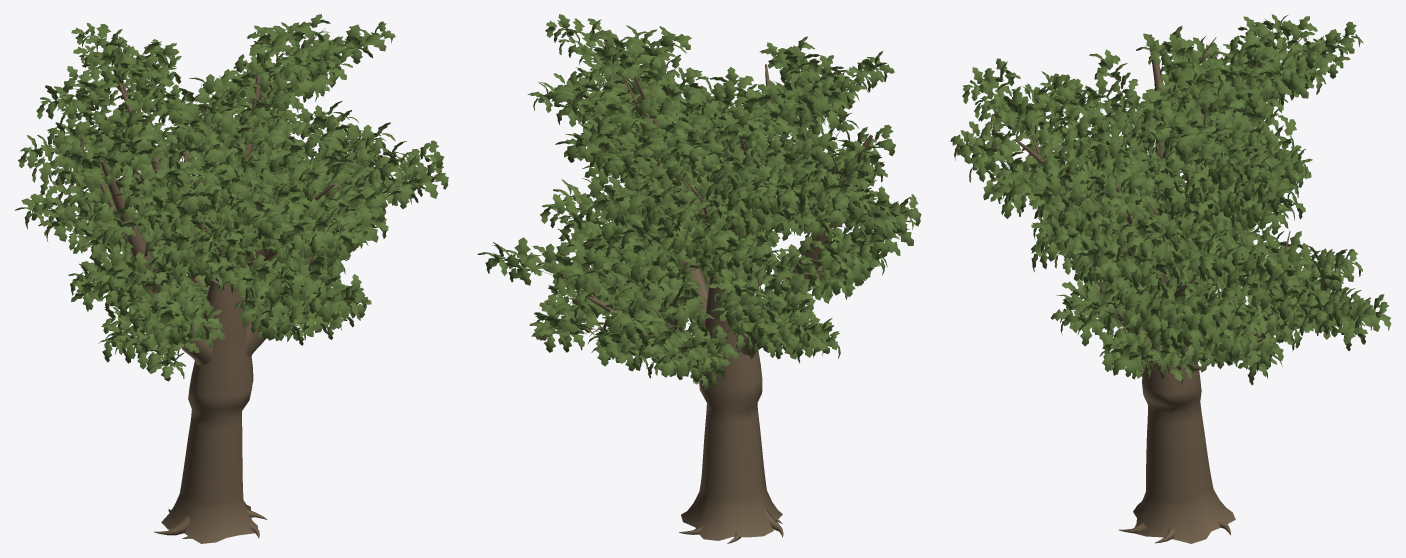
File: corealm_oak_1.glb
The picture shows the model from 3 angles, left to right: view 1: azimuth 30°, elevation 25°; view 2: azimuth 150°, elevation 25°; view 3: azimuth 270°, elevation 25°; orthographic projection. The views are drawn at different scales.
Parts seen in each view (by area): view 1: corealm_oak_1; view 2: corealm_oak_1; view 3: corealm_oak_1.
Part boxes in pixels (x1,y1,x2,y2): corealm_oak_1: (14, 14, 448, 543); corealm_oak_1: (477, 14, 921, 543); corealm_oak_1: (950, 14, 1391, 543).
Size of the model in its own units: 6.81 by 7.95 by 6.41.
